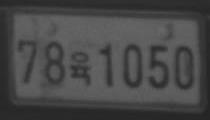0: (122, 43, 143, 88), (173, 46, 194, 90)
1: (97, 43, 118, 86)
5: (148, 44, 169, 90)
7: (17, 38, 37, 83)
8: (44, 41, 66, 85)
육: (68, 51, 92, 84)
